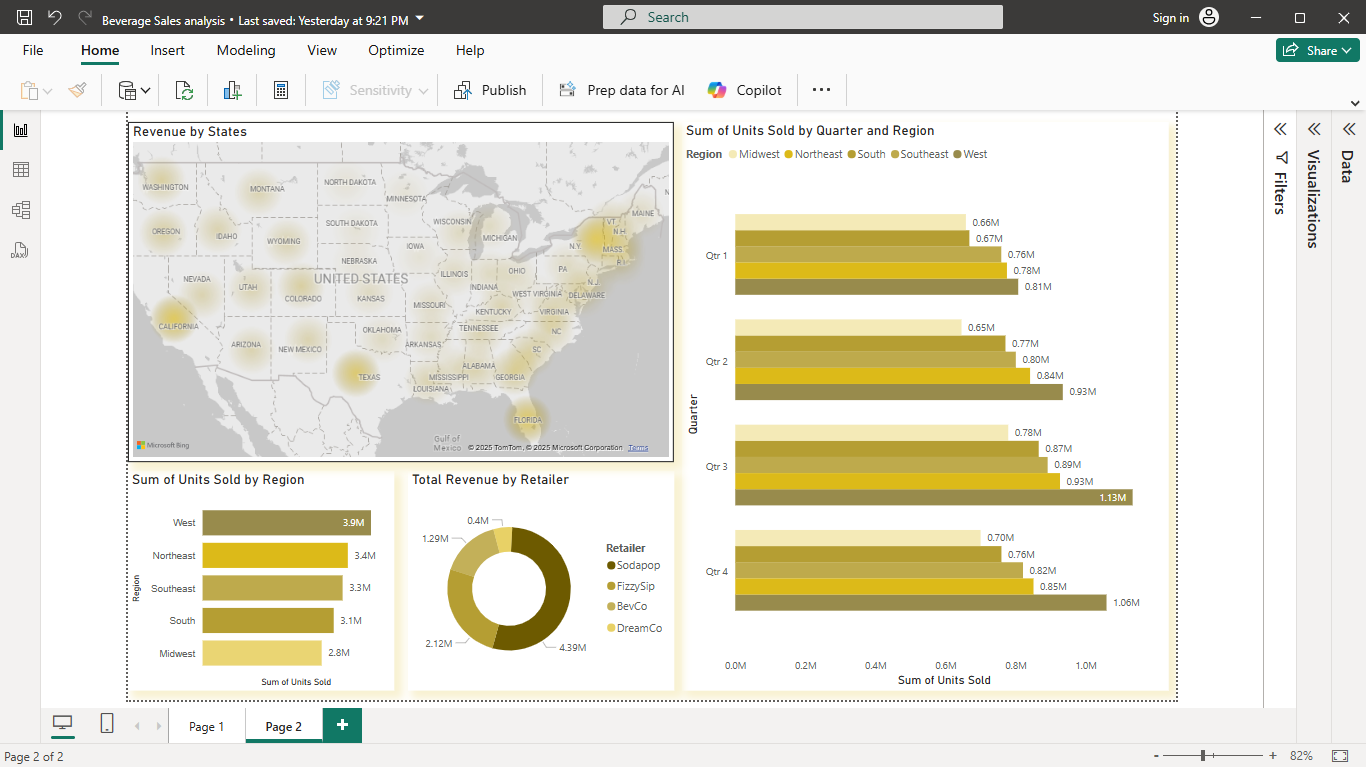

This screenshot's page, from the dashboard's own definition file:
{"tool":"powerbi","page":{"name":"Page 2","canvas":[1280,720],"ordinal":1},"visuals":[{"type":"clusteredBarChart","fields":{"Category":["Data.Region"],"Y":["Sum(Data.Units Sold)"]},"box":[0,440.5,324.6,268.5],"z":0},{"type":"clusteredBarChart","fields":{"Category":["Data.Date.Variation.Date Hierarchy.Year","Data.Date.Variation.Date Hierarchy.Quarter","Data.Date.Variation.Date Hierarchy.Month","Data.Date.Variation.Date Hierarchy.Day"],"Y":["Sum(Data.Units Sold)"],"Series":["Data.Region"]},"box":[676.1,14.6,594.3,694.4],"z":1000},{"type":"donutChart","fields":{"Category":["Data.Retailer"],"Y":["Data.Total Revenue"]},"box":[341.7,440.5,324.6,268.5],"z":2000},{"type":"map","title":"Revenue by States","fields":{"Y":["Latitude and Longitude.Latitude"],"X":["Latitude and Longitude.Longitude"],"Size":["Data.Total Revenue"]},"box":[0,14.6,666.3,414.7],"z":3000}]}

Visuals, with their boxes on the page's 1280x720 design canvas (x1, y1, x2, y2). These are canvas units, not pixel positions in the 1366x767 screenshot, which may show the page scaled, cropped or inside an application window:
clusteredBarChart - Data.Region x Sum(Data.Units Sold): detection(0, 440, 325, 709)
clusteredBarChart - Data.Date.Variation.Date Hierarchy.Year x Data.Date.Variation.Date Hierarchy.Quarter: detection(676, 15, 1270, 709)
donutChart - Data.Retailer x Data.Total Revenue: detection(342, 440, 666, 709)
"Revenue by States" map: detection(0, 15, 666, 429)
